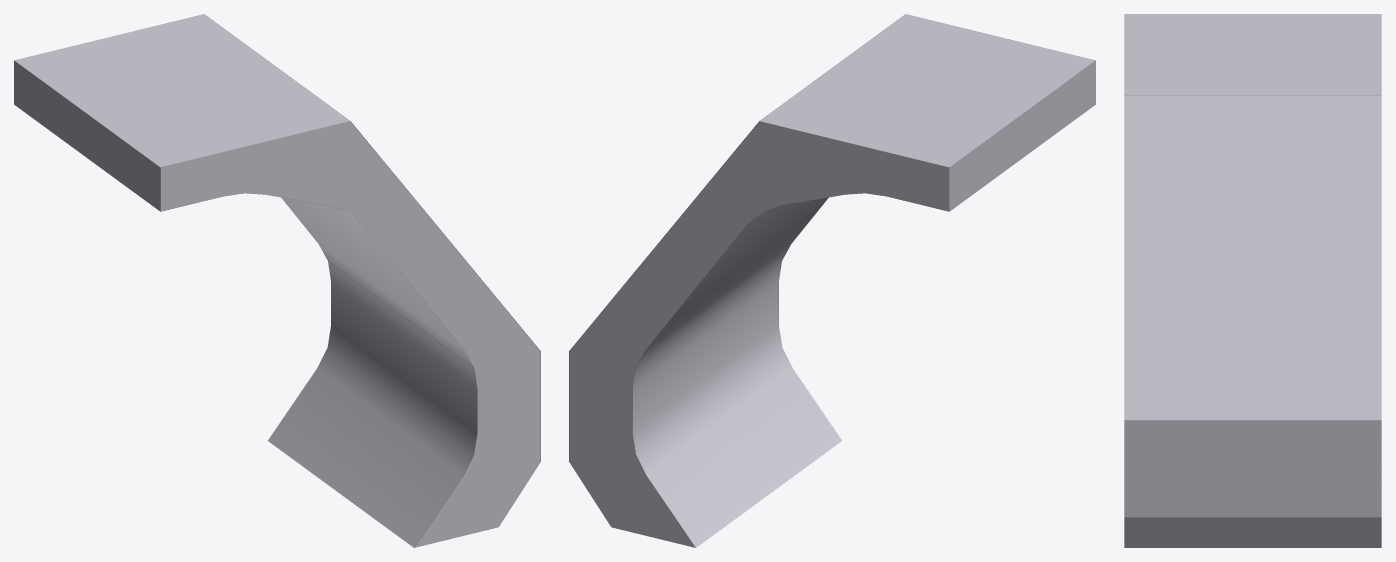
Rendered from Wall_Normal_01.FBX.
The picture shows the model from 3 angles, left to right: view 1: azimuth 30°, elevation 25°; view 2: azimuth 150°, elevation 25°; view 3: azimuth 270°, elevation 25°; orthographic projection. The views are drawn at different scales.
Parts seen in each view (by area): view 1: Wall_Normal_01; view 2: Wall_Normal_01; view 3: Wall_Normal_01.
Boxes of the visible parts, left/top/right/bottom form: Wall_Normal_01: left=14, top=14, right=540, bottom=547; Wall_Normal_01: left=569, top=14, right=1095, bottom=547; Wall_Normal_01: left=1124, top=14, right=1381, bottom=547.
Bounding box in the file's own units: 9 × 10 × 6.
2 materials, 2 textured.
